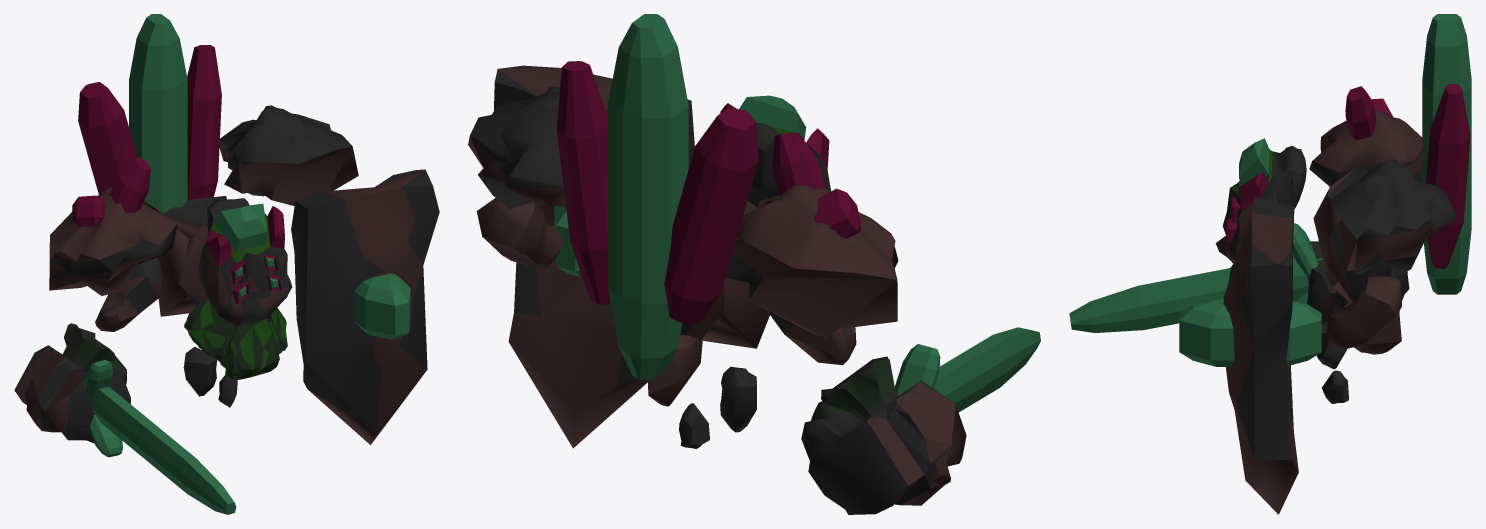
Rendered from MiniBoss_V04.FBX.
3 views of the same model, side by side, from view 1: azimuth 30°, elevation 25°; view 2: azimuth 150°, elevation 25°; view 3: azimuth 270°, elevation 25° (orthographic). The views are drawn at different scales.
Parts seen in each view (by area): view 1: Shield, Head, Shoulder L, Backcrystal M, Shoulder R, LowerArm R, Projectile, Backcrystal R, Body, Backcrystal L, Backcrystal M001, Bicep R (+6 smaller); view 2: Backcrystal M, LowerArm R, Shield, Shoulder R, Backcrystal L, Backcrystal R, Shoulder L, Projectile, Bicep L001, Head, Body, SC R02 (+7 smaller); view 3: Shield, Shoulder L, Backcrystal M, Projectile, Backcrystal R, Backcrystal M001, Head, Shoulder R, Bicep L001, Body, LowerArm R, SC R02 (+4 smaller).
Part boxes in pixels (bbox=[...]): Shield: bbox=[291, 169, 439, 444]; Head: bbox=[184, 198, 292, 380]; Shoulder L: bbox=[219, 105, 358, 205]; Backcrystal M: bbox=[129, 14, 187, 213]; Shoulder R: bbox=[49, 187, 177, 295]; LowerArm R: bbox=[14, 323, 130, 443]; Projectile: bbox=[91, 386, 236, 514]; Backcrystal R: bbox=[187, 45, 221, 200]; Body: bbox=[156, 196, 226, 316]; Backcrystal L: bbox=[78, 82, 144, 200]; Backcrystal M001: bbox=[354, 273, 410, 339]; Bicep R: bbox=[95, 258, 162, 331]; Backcrystal M: bbox=[608, 14, 688, 380]; LowerArm R: bbox=[801, 356, 966, 514]; Shield: bbox=[494, 65, 694, 448]; Shoulder R: bbox=[726, 185, 898, 337]; Backcrystal L: bbox=[664, 107, 758, 324]; Backcrystal R: bbox=[556, 61, 610, 304]; Shoulder L: bbox=[468, 86, 607, 209]; Projectile: bbox=[899, 327, 1040, 412]; Bicep L001: bbox=[476, 198, 562, 270]; Head: bbox=[720, 95, 830, 207]; Body: bbox=[680, 201, 769, 348]; SC R02: bbox=[772, 132, 825, 196]; Shield: bbox=[1223, 196, 1298, 514]; Shoulder L: bbox=[1333, 159, 1456, 274]; Backcrystal M: bbox=[1422, 14, 1471, 294]; Projectile: bbox=[1069, 256, 1323, 332]; Backcrystal R: bbox=[1426, 83, 1470, 268]; Backcrystal M001: bbox=[1179, 298, 1321, 366]; Head: bbox=[1215, 138, 1306, 281]; Shoulder R: bbox=[1309, 110, 1422, 186]; Bicep L001: bbox=[1326, 276, 1401, 349]; Body: bbox=[1313, 164, 1391, 303]; LowerArm R: bbox=[1307, 241, 1409, 323]; SC R02: bbox=[1345, 86, 1376, 140].
Bounding box in the file's own units: 21.3 × 19.14 × 22.45.
